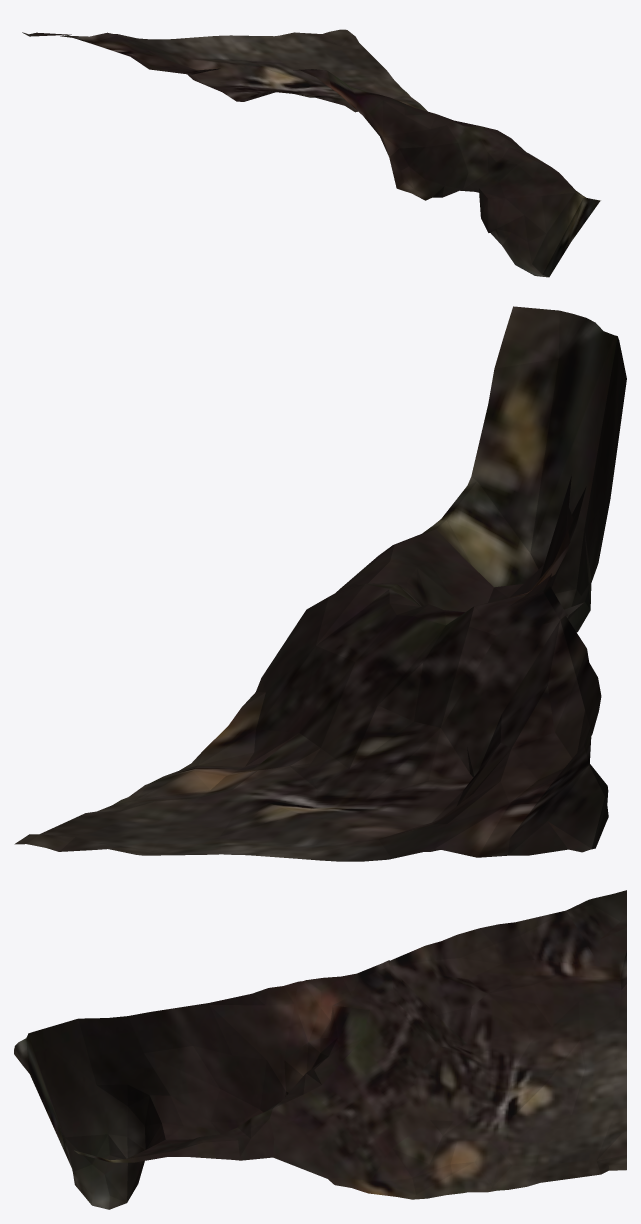
The picture shows the model from 3 angles, top to bottom: view 1: azimuth 30°, elevation 25°; view 2: azimuth 150°, elevation 25°; view 3: azimuth 270°, elevation 25°; orthographic projection. The views are drawn at different scales.
Size of the model in its own units: 0.5084 by 0.2263 by 0.75.
Materials: 1 (1 with a texture image).
